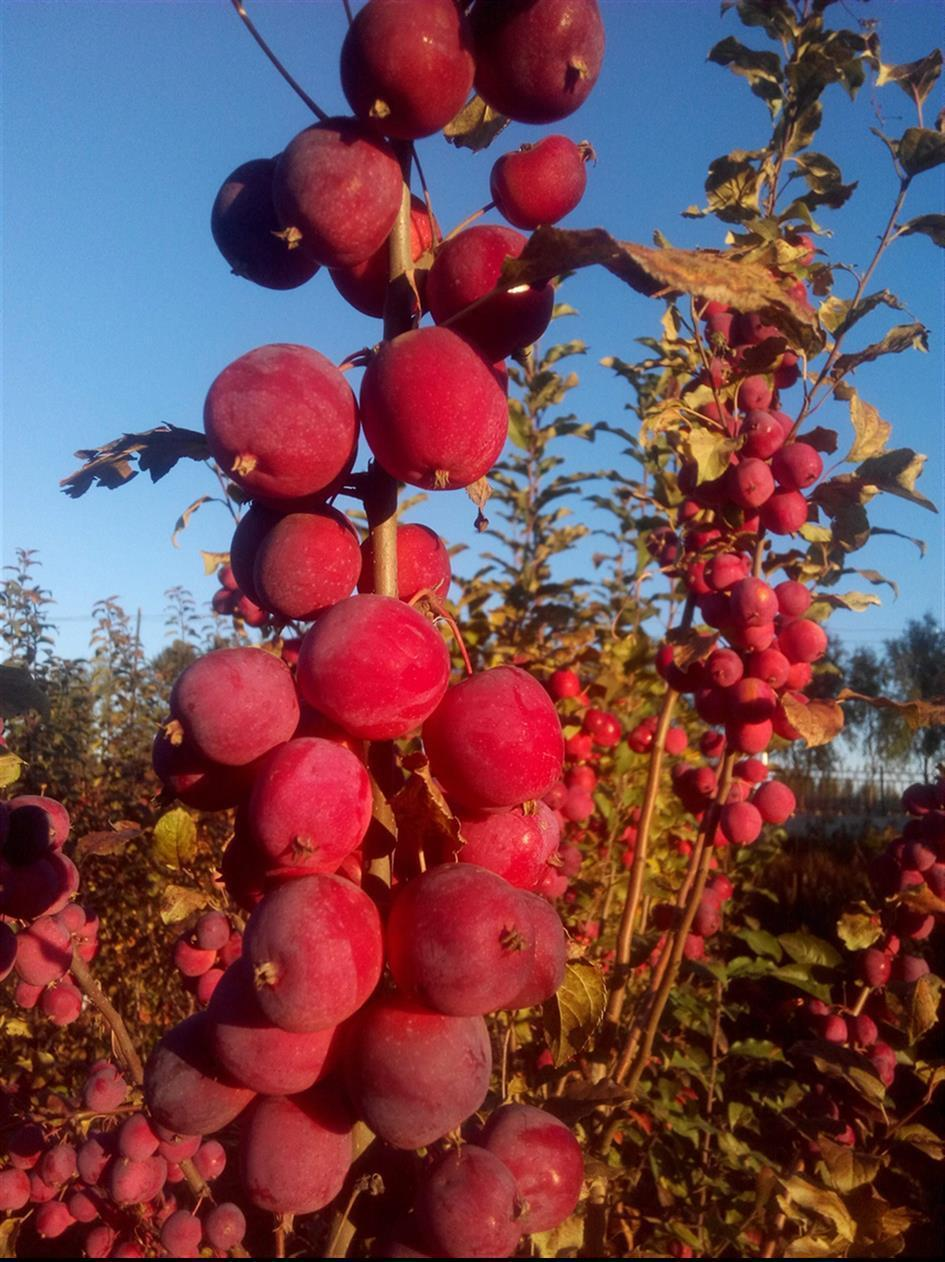apple: (358, 330, 514, 492), (201, 340, 357, 500), (358, 327, 505, 492), (298, 597, 449, 742), (246, 871, 383, 1029), (391, 870, 536, 1019), (351, 1004, 496, 1146), (268, 118, 404, 268), (340, 4, 477, 139), (433, 670, 565, 809), (229, 500, 366, 625), (464, 1, 603, 123), (212, 974, 347, 1093), (431, 226, 554, 356), (256, 739, 377, 871), (166, 645, 301, 763), (416, 1147, 529, 1262), (244, 1096, 357, 1210), (483, 1103, 584, 1215), (142, 1025, 243, 1137), (487, 134, 596, 230), (355, 522, 449, 601), (776, 616, 826, 663), (705, 648, 742, 686)
